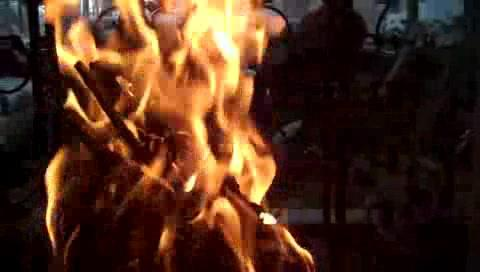fire: (41, 0, 263, 271)
